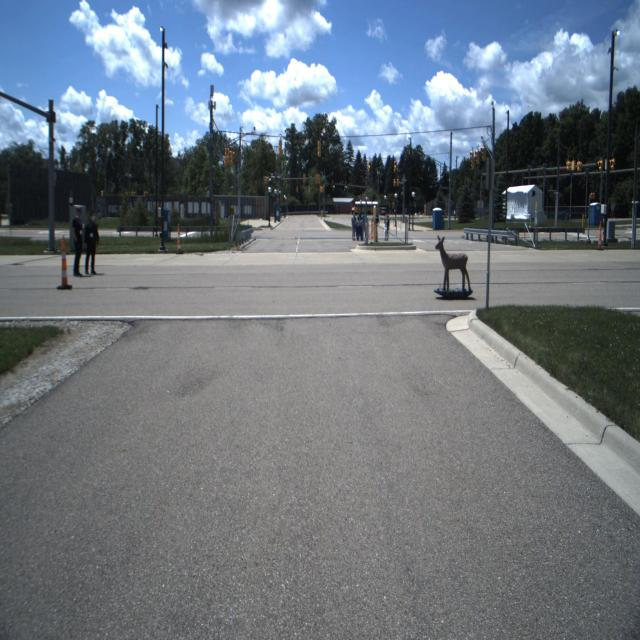Deer: (435, 236, 470, 290)
